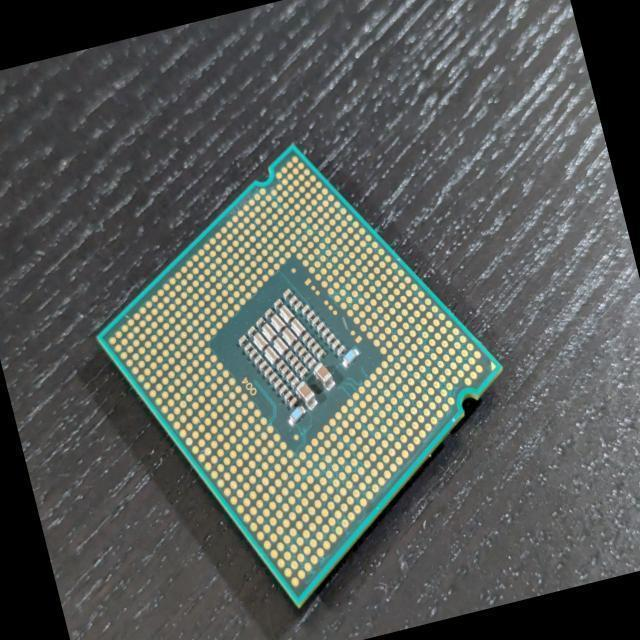CPU: (60, 106, 548, 640)
